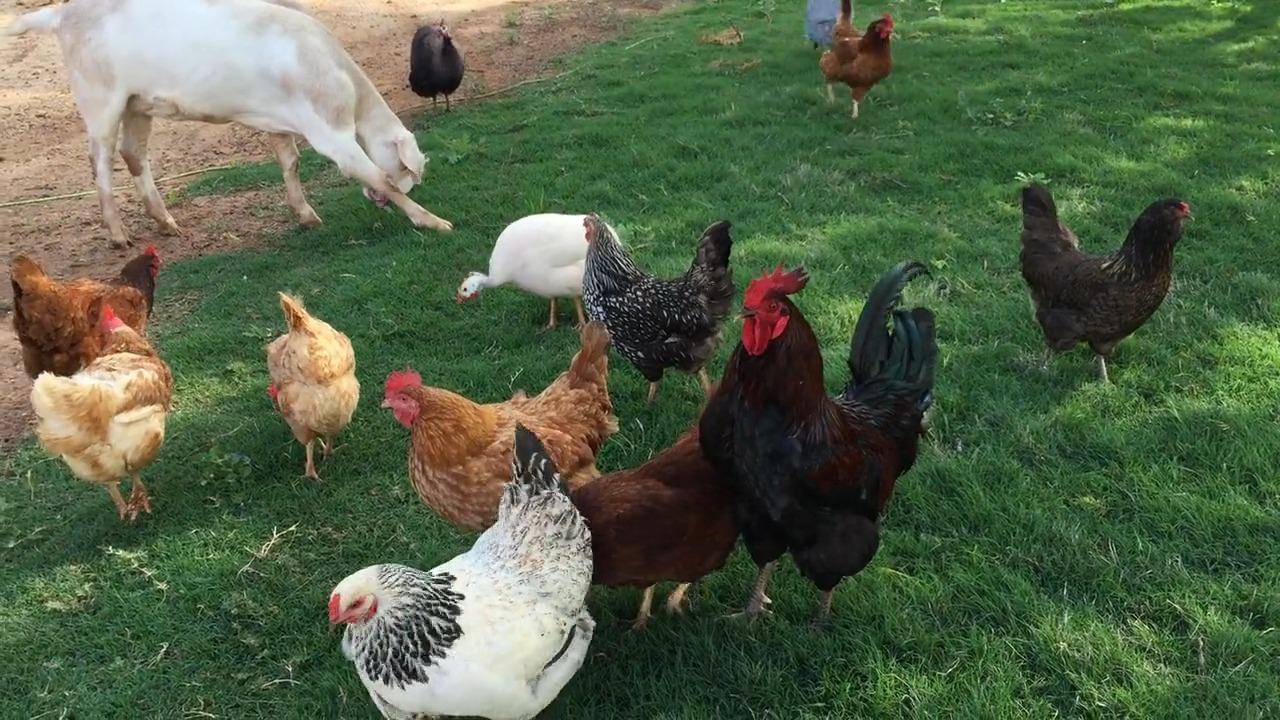Normal: (735, 273, 940, 621), (332, 507, 593, 720), (379, 357, 625, 521), (1022, 177, 1193, 385), (32, 320, 179, 524), (586, 217, 741, 401), (450, 212, 619, 333), (262, 289, 363, 485), (9, 247, 164, 372), (820, 15, 897, 120), (406, 22, 468, 115)
